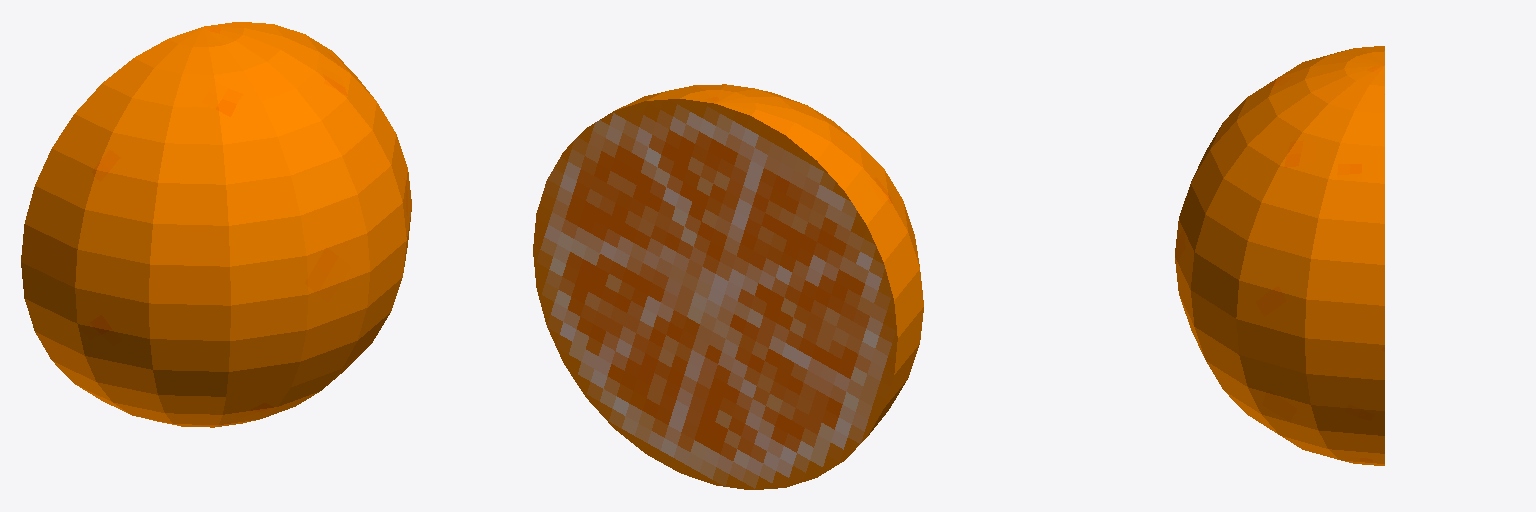
3 views of the same model, side by side, from view 1: azimuth 30°, elevation 25°; view 2: azimuth 150°, elevation 25°; view 3: azimuth 270°, elevation 25° (orthographic).
Visible parts, largest first — view 1: Sphere.001; view 2: Sphere.001; view 3: Sphere.001.
Part boxes in pixels (x1,y1,x2,y2): Sphere.001: (21, 22, 411, 427); Sphere.001: (533, 84, 923, 489); Sphere.001: (1175, 46, 1384, 465).
Bounding box in the file's own units: 2 × 2 × 1.
Materials: 1 (1 with a texture image).